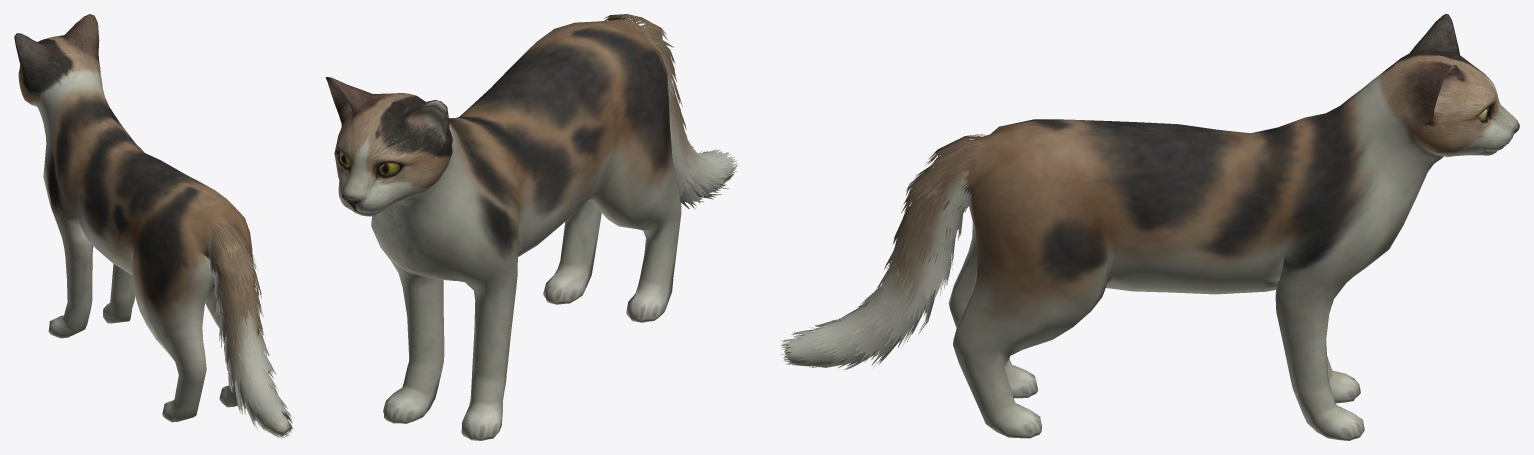
Rendered from cat.glb.
3 renders of one model, left to right at view 1: azimuth 30°, elevation 25°; view 2: azimuth 150°, elevation 25°; view 3: azimuth 270°, elevation 25°, orthographic. The views are drawn at different scales.
Visible parts, largest first — view 1: cat; view 2: cat; view 3: cat.
Part boxes in pixels (<box>): cat: <box>14,14,292,438</box>; cat: <box>325,14,737,440</box>; cat: <box>780,14,1519,440</box>.
Size of the model in its own units: 0.1273 by 0.3348 by 0.6.
1 material, 1 textured.
